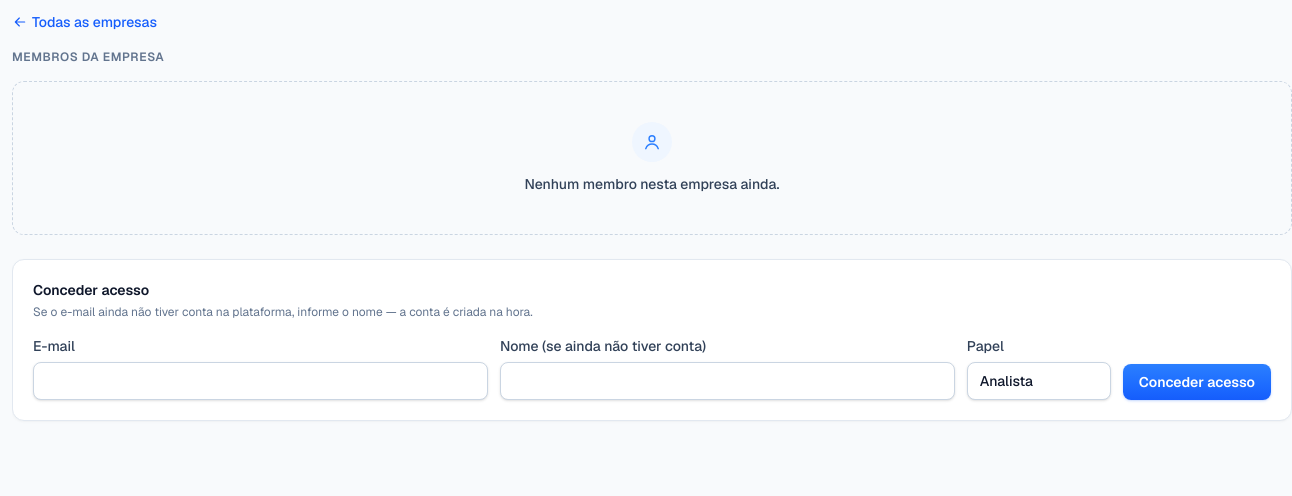
Test: AdminOrganizationMembersPage › mostra erro quando conceder acesso falha
Type "semnome@example.com" into the field labelled "E-mail" at (260, 381), box [33,362,488,400]
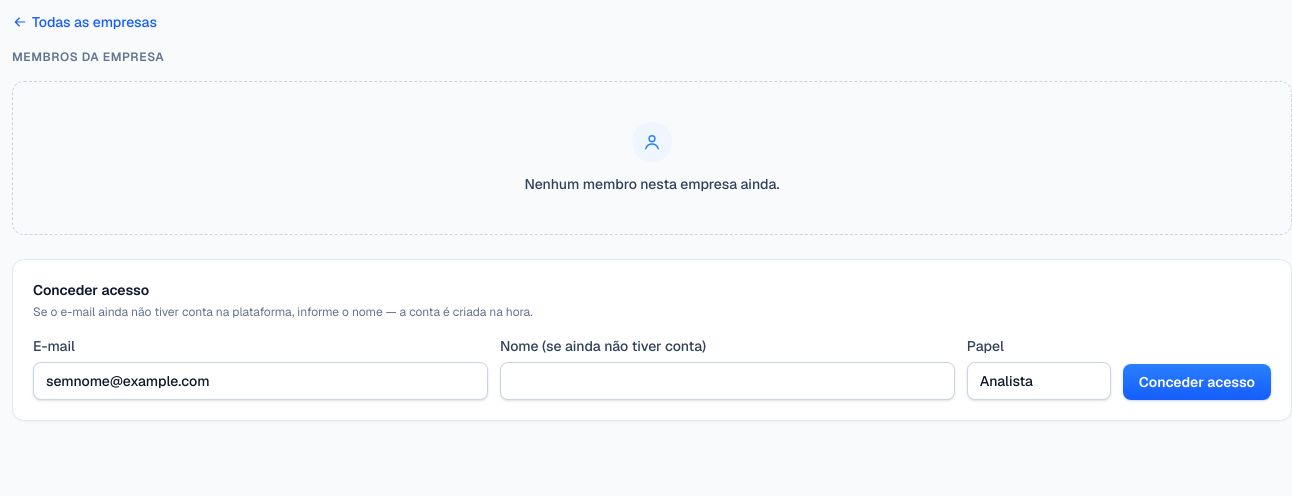
Click the button "Conceder acesso" at (1197, 382), box [1123,364,1271,400]
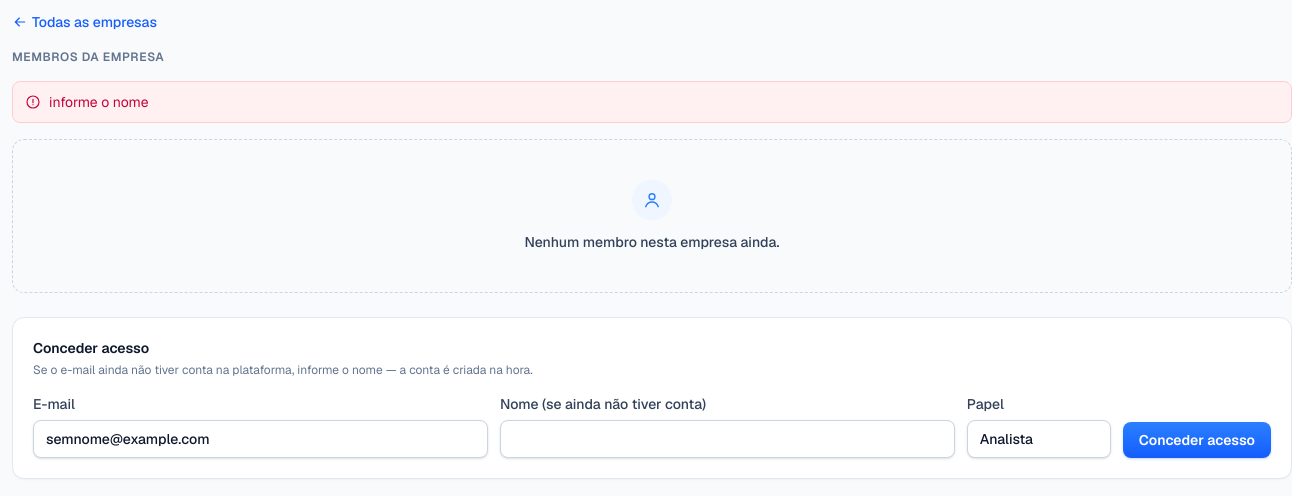
Expected: the text "informe o nome" is shown, [49,92,148,112]
